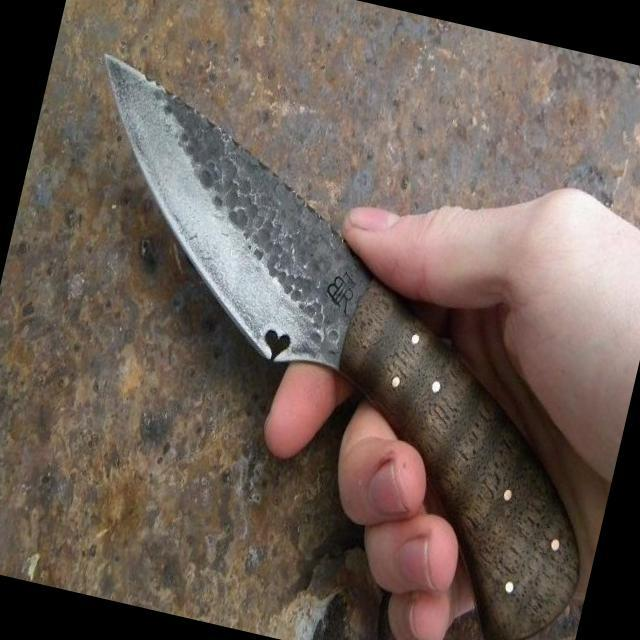Knife: (0, 36, 569, 640)
